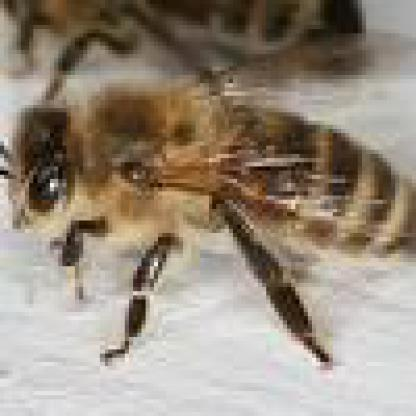other: (13, 38, 408, 350)
